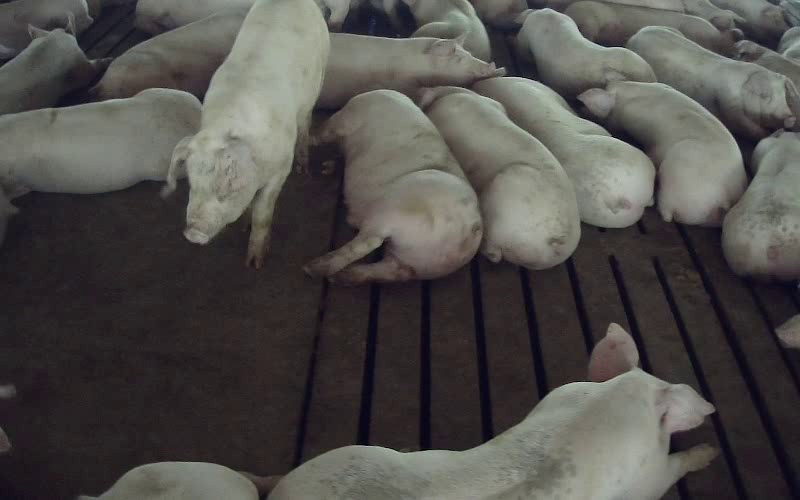pig: (268, 323, 716, 499), (305, 90, 482, 284), (419, 87, 579, 269), (472, 77, 654, 226), (578, 82, 746, 225), (0, 88, 200, 196), (627, 27, 799, 139), (316, 33, 503, 108), (515, 8, 656, 98), (94, 14, 243, 99), (722, 131, 799, 280), (0, 13, 109, 114), (565, 0, 742, 55), (404, 0, 490, 60)
